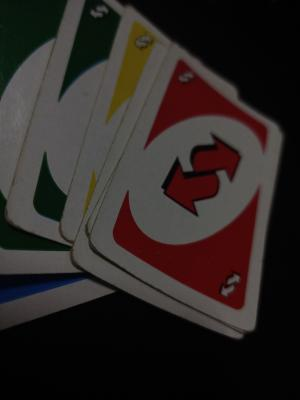reverse: (158, 128, 247, 222), (216, 267, 247, 302), (85, 0, 118, 31), (173, 60, 201, 96), (128, 27, 160, 55)
